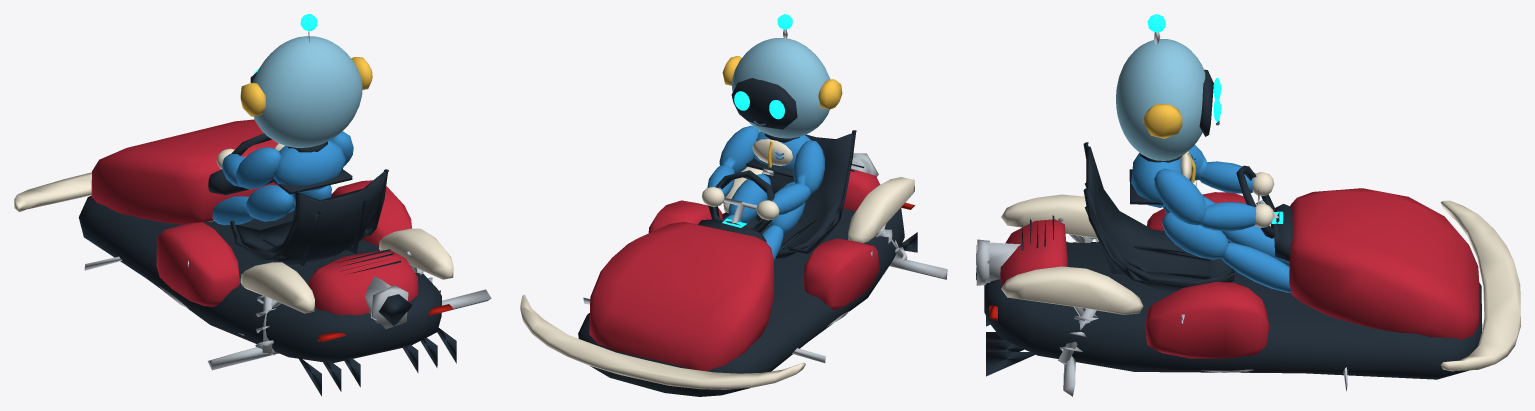
The model's file is chibi-bibo-low-v1.glb.
3 renders of one model, left to right at view 1: azimuth 30°, elevation 25°; view 2: azimuth 150°, elevation 25°; view 3: azimuth 270°, elevation 25°, orthographic. The views are drawn at different scales.
Parts seen in each view (by area): view 1: SeatRolledLip1, SculptedSideIntake1, Head, SweptFrontApron, Team double chevron.001, SuspensionCoil1, Upper sleeve, Central orange zipper; view 2: SculptedSideIntake1, SeatRolledLip1, SweptFrontApron, Head, Team double chevron.001, SuspensionCoil1, Upper sleeve, Upper sleeve.001, Central orange zipper, InstrumentScreen, Mitten; view 3: SeatRolledLip1, SculptedSideIntake1, SweptFrontApron, Head, Team double chevron.001, Upper sleeve.001, SuspensionCoil1, Upper sleeve, Central orange zipper, InstrumentScreen.
Part boxes in pixels (box(x1,y1,x2,y2)): SeatRolledLip1: box(78, 72, 456, 396); SculptedSideIntake1: box(91, 119, 418, 315); Head: box(253, 36, 362, 147); SweptFrontApron: box(14, 143, 453, 313); Team double chevron.001: box(212, 140, 345, 225); SuspensionCoil1: box(84, 31, 491, 370); Upper sleeve: box(222, 147, 281, 189); Central orange zipper: box(240, 57, 372, 116); SculptedSideIntake1: box(589, 168, 880, 371); SeatRolledLip1: box(578, 78, 917, 396); SweptFrontApron: box(520, 139, 914, 389); Head: box(731, 38, 830, 138); Team double chevron.001: box(723, 131, 811, 261); SuspensionCoil1: box(583, 29, 947, 362); Upper sleeve: box(772, 140, 825, 214); Upper sleeve.001: box(707, 125, 759, 197); Central orange zipper: box(722, 56, 842, 167); InstrumentScreen: box(722, 14, 792, 227); Mitten: box(756, 200, 779, 220); SeatRolledLip1: box(976, 69, 1482, 379); SculptedSideIntake1: box(1000, 188, 1479, 358); SweptFrontApron: box(1001, 151, 1520, 371); Head: box(1116, 39, 1205, 160); Team double chevron.001: box(1131, 153, 1291, 292); Upper sleeve.001: box(1154, 168, 1256, 231); SuspensionCoil1: box(976, 32, 1347, 396); Upper sleeve: box(1188, 145, 1255, 193); Central orange zipper: box(1143, 104, 1196, 182); InstrumentScreen: box(1147, 14, 1283, 223).
Bounding box in the file's own units: 1.63 × 1.53 × 2.31.
